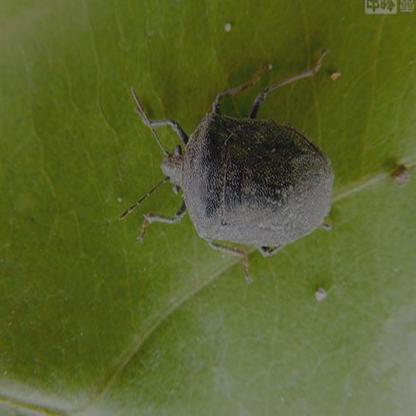rice-bug: (134, 57, 344, 258)
